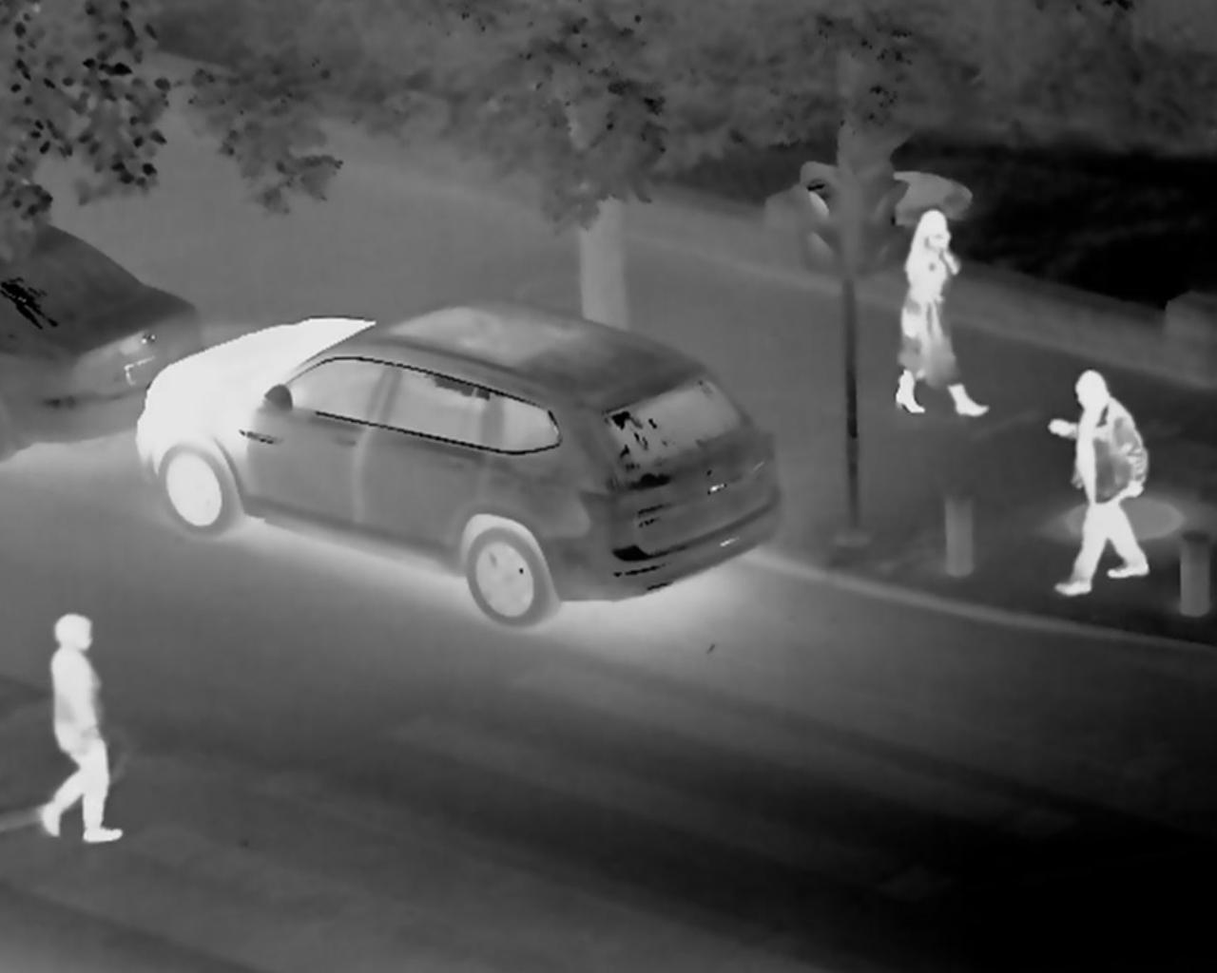person: (1053, 369, 1168, 611), (56, 603, 134, 889), (879, 223, 965, 430)
